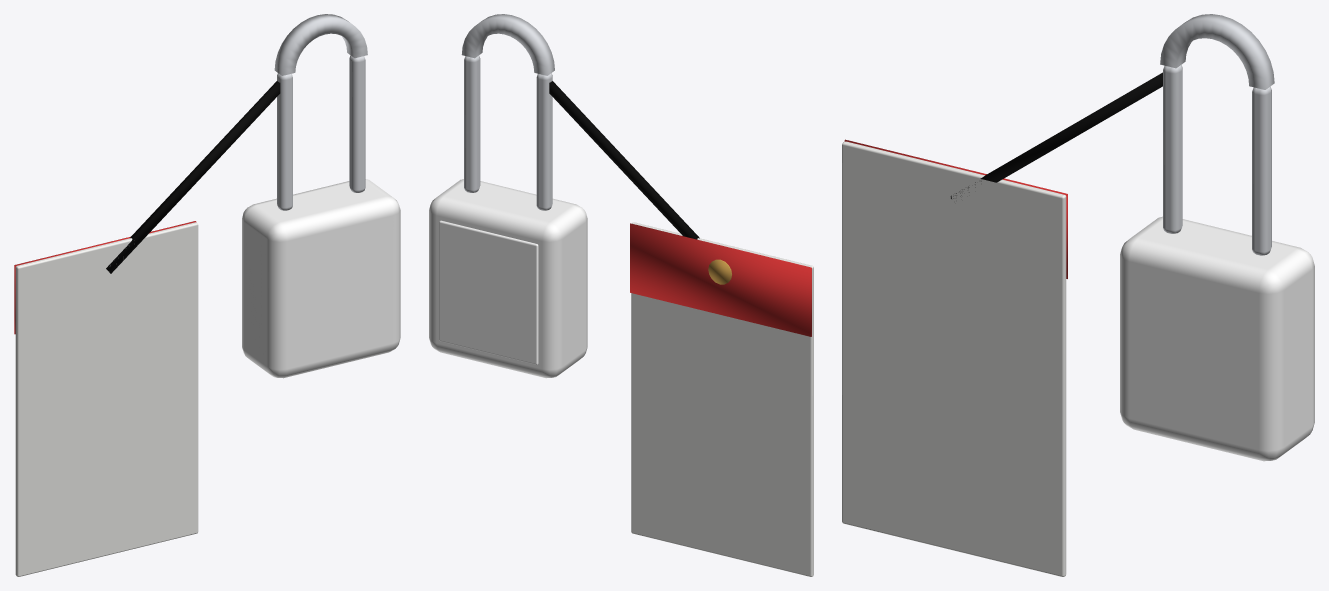
Rendered from Padlock.fbx.
The picture shows the model from 3 angles, left to right: view 1: azimuth 30°, elevation 25°; view 2: azimuth 150°, elevation 25°; view 3: azimuth 330°, elevation 25°; orthographic projection. The views are drawn at different scales.
Visible parts, largest first — view 1: Padlock Tag, Padlock Body, Padlock Shackle; view 2: Padlock Tag, Padlock Body, Padlock Shackle; view 3: Padlock Tag, Padlock Body, Padlock Shackle.
Part boxes in pixels (bbox=[...]): Padlock Tag: bbox=[14, 81, 280, 576]; Padlock Body: bbox=[242, 179, 400, 378]; Padlock Shackle: bbox=[274, 14, 367, 210]; Padlock Tag: bbox=[549, 81, 813, 576]; Padlock Body: bbox=[429, 179, 587, 378]; Padlock Shackle: bbox=[461, 14, 554, 210]; Padlock Tag: bbox=[842, 72, 1162, 576]; Padlock Body: bbox=[1120, 216, 1314, 461]; Padlock Shackle: bbox=[1160, 14, 1274, 255].
Size of the model in its own units: 0.225 by 0.281 by 0.0415.
